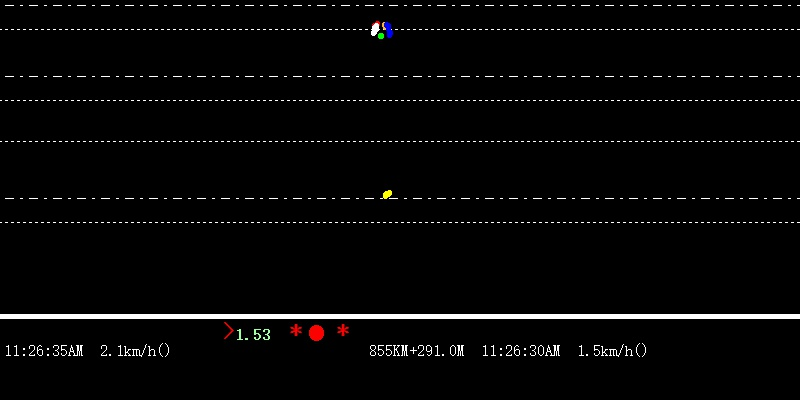circle: (308, 322, 324, 342)
face_s: (381, 18, 394, 40), (370, 18, 380, 37)
star: (287, 317, 303, 339), (335, 321, 351, 339)
